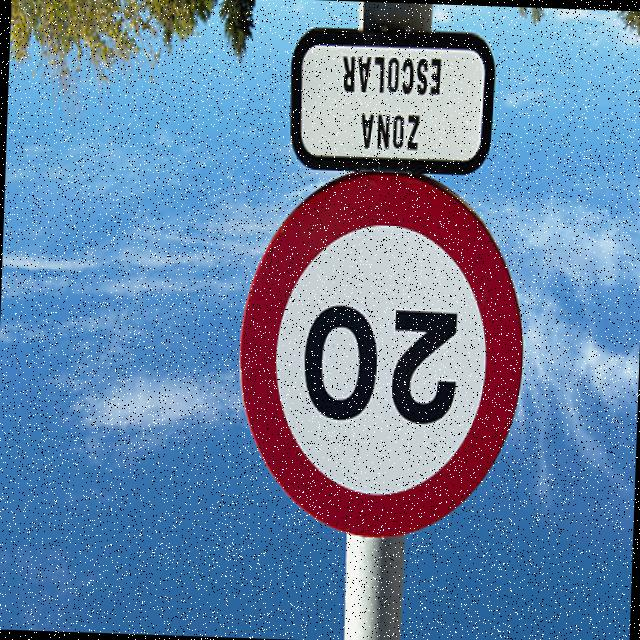speed_limit_20: (229, 166, 530, 542)
